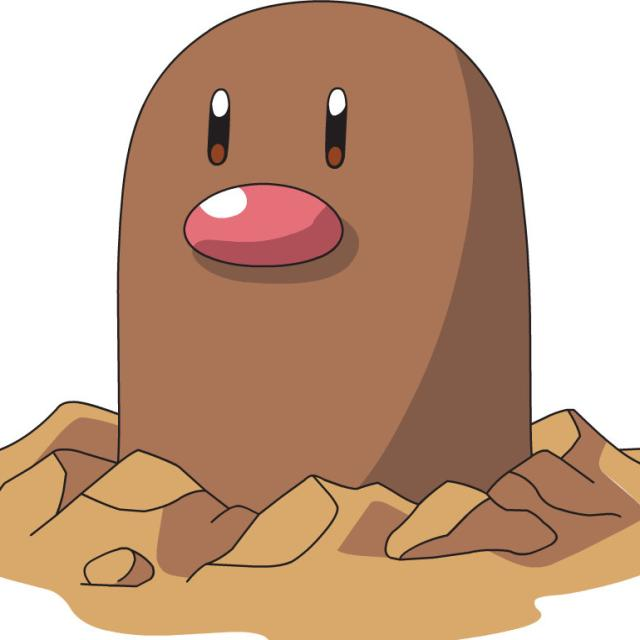Diglett: (109, 5, 545, 430)
